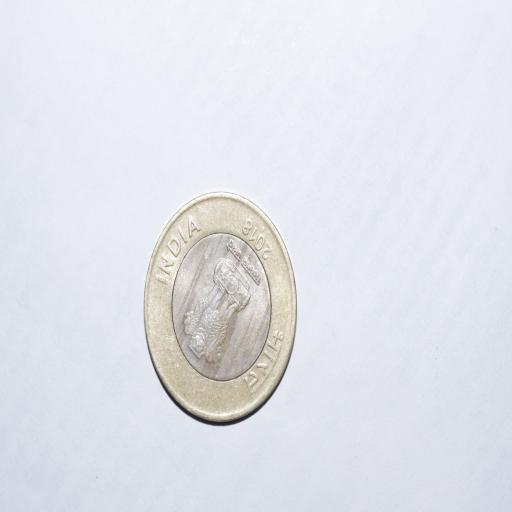rupee10: (143, 189, 299, 422)
